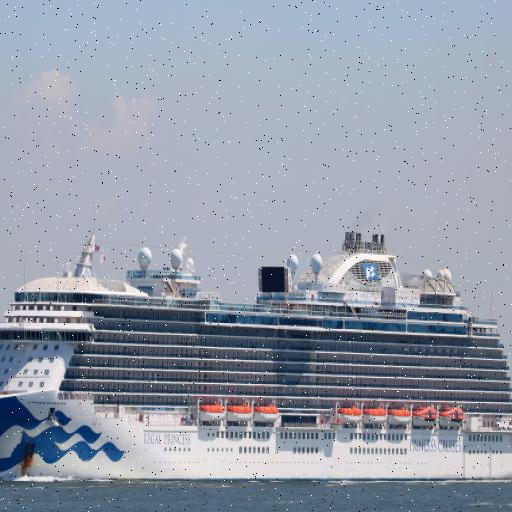cruises: (1, 225, 512, 494)
